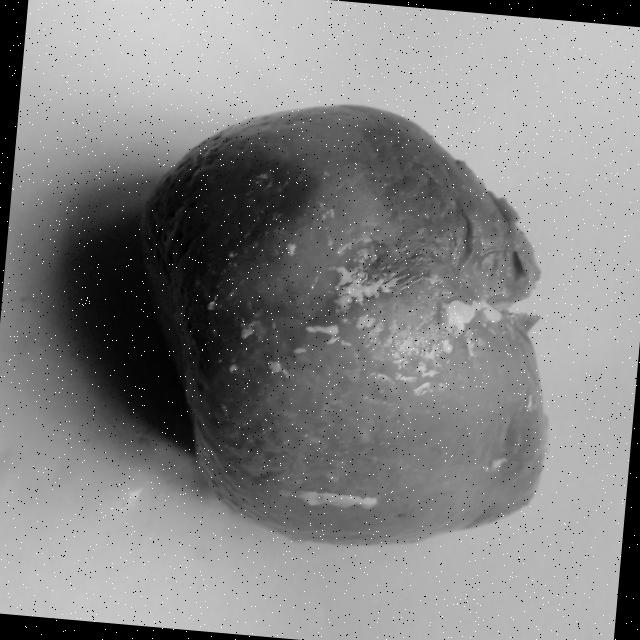Rotten: (96, 86, 577, 564)
